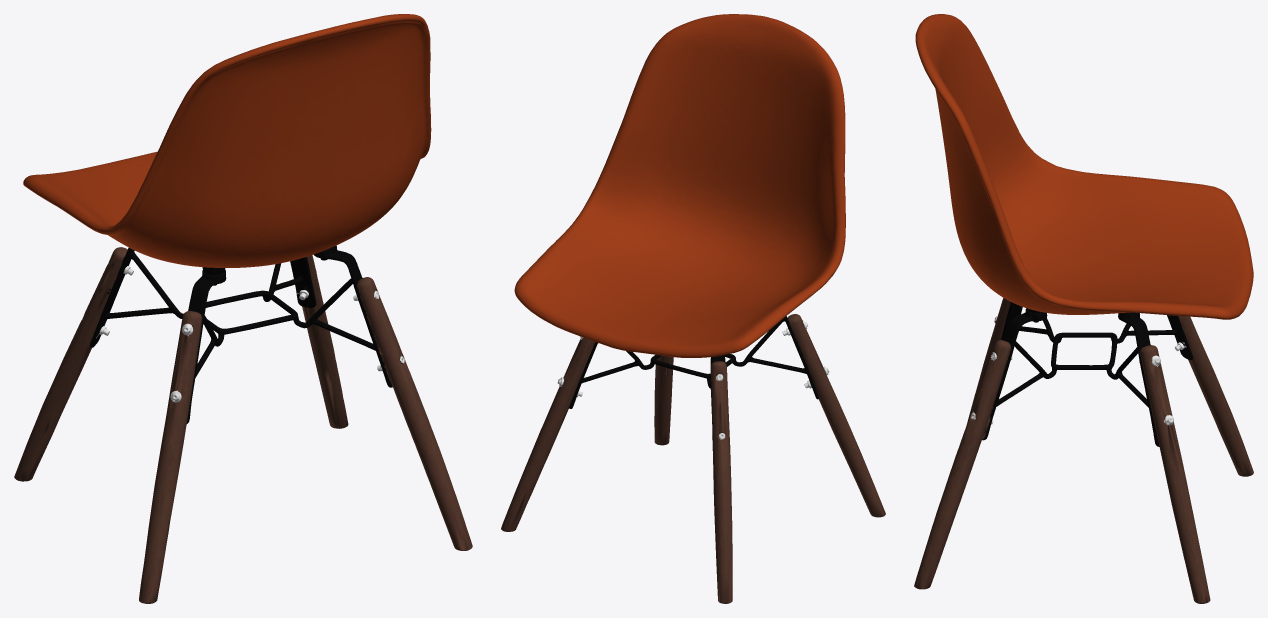
Rendered from ND-0607__Elon4_22.glb.
The picture shows the model from 3 angles, left to right: view 1: azimuth 30°, elevation 25°; view 2: azimuth 150°, elevation 25°; view 3: azimuth 270°, elevation 25°; orthographic projection. The views are drawn at different scales.
Parts seen in each view (by area): view 1: tripo_node_aeb78299-7747-400a-b60e-9c411fa0cf6e, tripo_node_aeb78299-7747-400a-b60e-9c411fa0cf6e.001, tripo_node_aeb78299-7747-400a-b60e-9c411fa0cf6e.003; view 2: tripo_node_aeb78299-7747-400a-b60e-9c411fa0cf6e, tripo_node_aeb78299-7747-400a-b60e-9c411fa0cf6e.001, tripo_node_aeb78299-7747-400a-b60e-9c411fa0cf6e.003; view 3: tripo_node_aeb78299-7747-400a-b60e-9c411fa0cf6e, tripo_node_aeb78299-7747-400a-b60e-9c411fa0cf6e.001, tripo_node_aeb78299-7747-400a-b60e-9c411fa0cf6e.003.
Part boxes in pixels (left/top/right/bottom): tripo_node_aeb78299-7747-400a-b60e-9c411fa0cf6e: left=23, top=14, right=431, bottom=267; tripo_node_aeb78299-7747-400a-b60e-9c411fa0cf6e.001: left=14, top=247, right=472, bottom=603; tripo_node_aeb78299-7747-400a-b60e-9c411fa0cf6e.003: left=89, top=245, right=392, bottom=423; tripo_node_aeb78299-7747-400a-b60e-9c411fa0cf6e: left=514, top=14, right=845, bottom=357; tripo_node_aeb78299-7747-400a-b60e-9c411fa0cf6e.001: left=501, top=314, right=885, bottom=603; tripo_node_aeb78299-7747-400a-b60e-9c411fa0cf6e.003: left=569, top=316, right=819, bottom=450; tripo_node_aeb78299-7747-400a-b60e-9c411fa0cf6e: left=915, top=14, right=1253, bottom=319; tripo_node_aeb78299-7747-400a-b60e-9c411fa0cf6e.001: left=914, top=298, right=1253, bottom=603; tripo_node_aeb78299-7747-400a-b60e-9c411fa0cf6e.003: left=982, top=302, right=1193, bottom=446.
Size of the model in its own units: 0.6284 by 0.9794 by 0.61.
10 materials, 2 textured.
